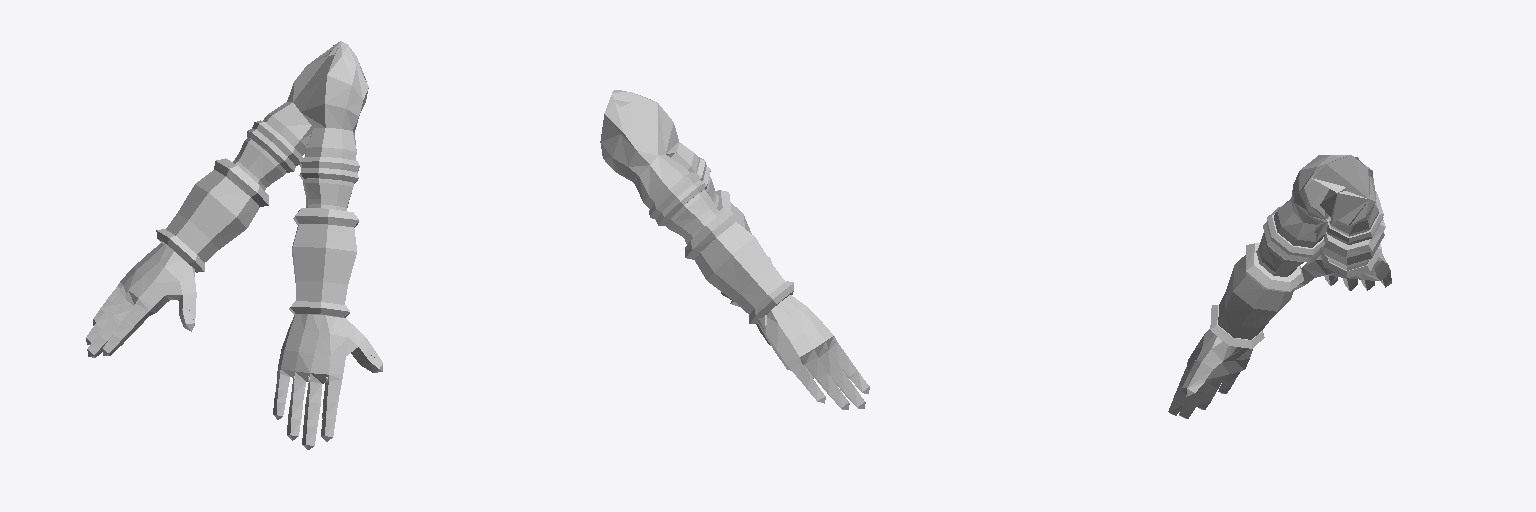
File: right_arm-8_asuramon.blend.obj
3 views of the same model, side by side, from view 1: azimuth 30°, elevation 25°; view 2: azimuth 150°, elevation 25°; view 3: azimuth 270°, elevation 25° (orthographic).
Parts seen in each view (by area): view 1: right_arm-8_asuramon.blend_Mesh.005; view 2: right_arm-8_asuramon.blend_Mesh.005; view 3: right_arm-8_asuramon.blend_Mesh.005.
Part boxes in pixels (left/top/right/bottom): right_arm-8_asuramon.blend_Mesh.005: left=86, top=41, right=382, bottom=449; right_arm-8_asuramon.blend_Mesh.005: left=600, top=90, right=869, bottom=409; right_arm-8_asuramon.blend_Mesh.005: left=1168, top=155, right=1391, bottom=418.
Bounding box in the file's own units: 2.16 × 2.48 × 1.58.